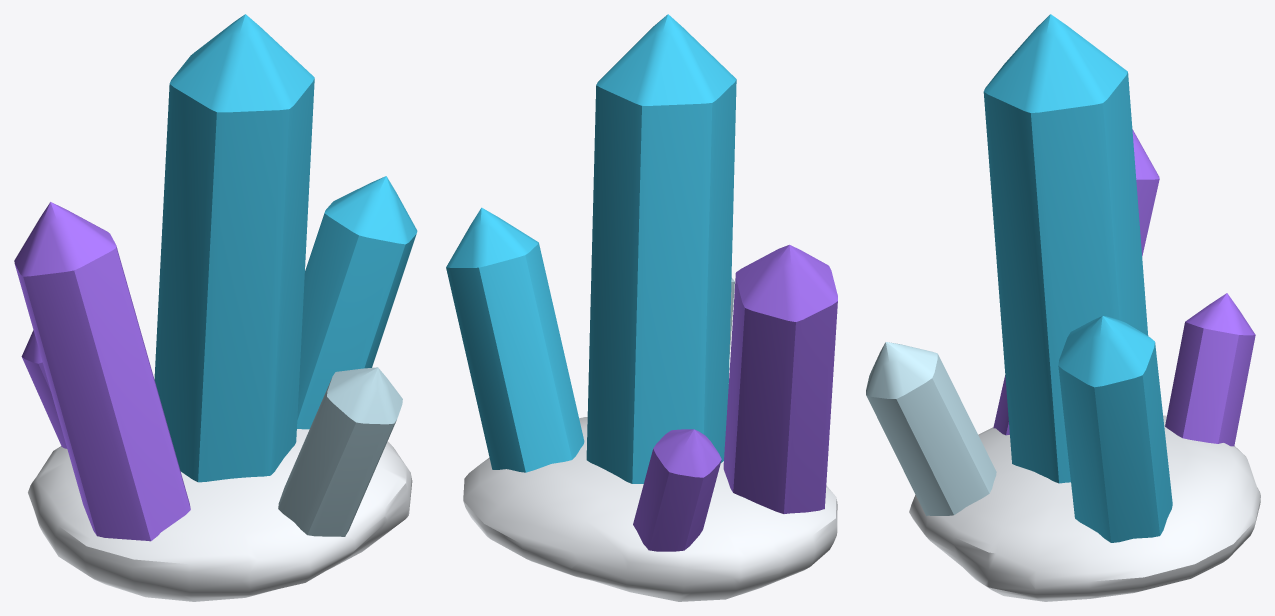
Rendered from CrystalClusterA.glb.
3 views of the same model, side by side, from view 1: azimuth 30°, elevation 25°; view 2: azimuth 150°, elevation 25°; view 3: azimuth 270°, elevation 25° (orthographic). The views are drawn at different scales.
Parts seen in each view (by area): view 1: CrystalClusterA; view 2: CrystalClusterA; view 3: CrystalClusterA.
Part boxes in pixels (x1,y1,x2,y2): CrystalClusterA: (14,14,417,601); CrystalClusterA: (446,14,837,601); CrystalClusterA: (866,14,1260,601).
Size of the model in its own units: 9.04 by 12.08 by 7.91.
Materials: 1 (1 with a texture image).
